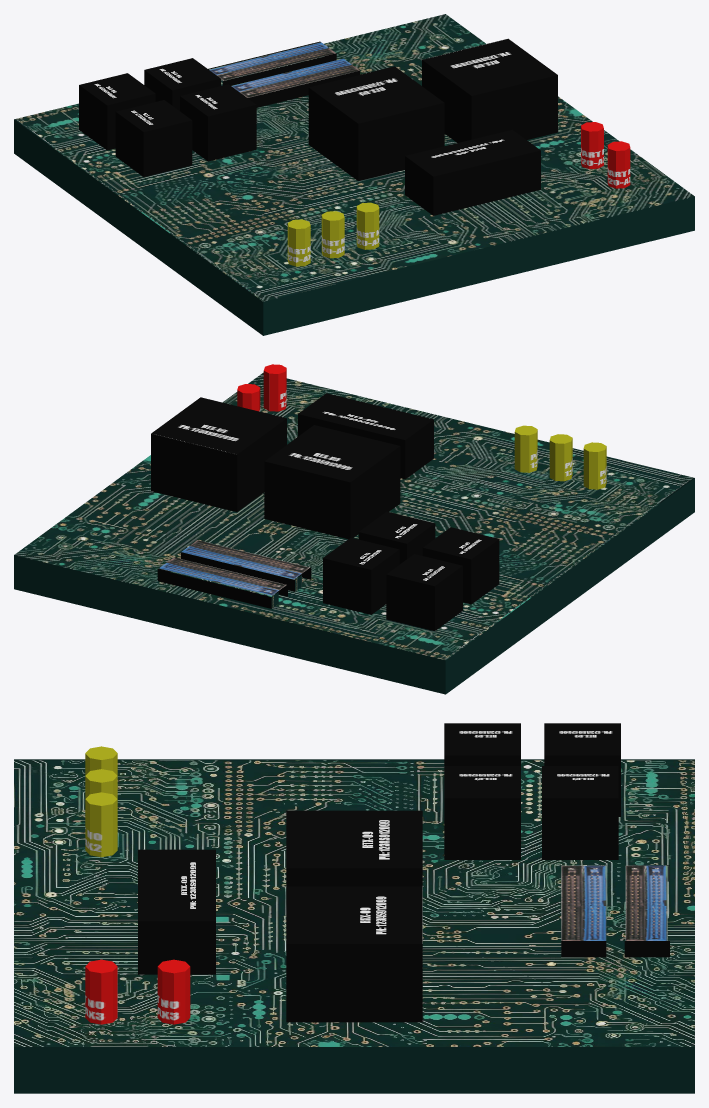
The model's file is tikitown_control_board.fbx.
3 views of the same model, one above another, from view 1: azimuth 30°, elevation 25°; view 2: azimuth 150°, elevation 25°; view 3: azimuth 270°, elevation 25° (orthographic). The views are drawn at different scales.
Visible parts, largest first — view 1: Cube; view 2: Cube; view 3: Cube.
Boxes of the visible parts, bbox=[...] form: Cube: bbox=[14, 14, 694, 335]; Cube: bbox=[14, 364, 694, 694]; Cube: bbox=[14, 723, 694, 1093].
Size of the model in its own units: 0.243 by 0.0493 by 0.243.
